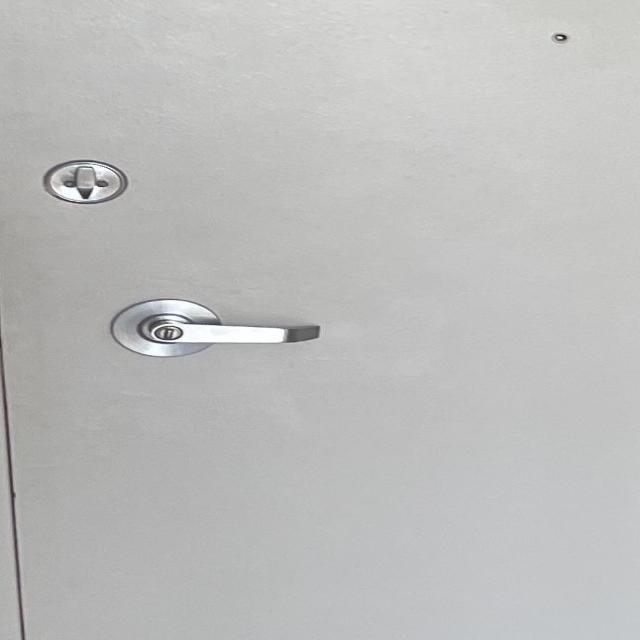door_handle: (104, 309, 335, 359)
